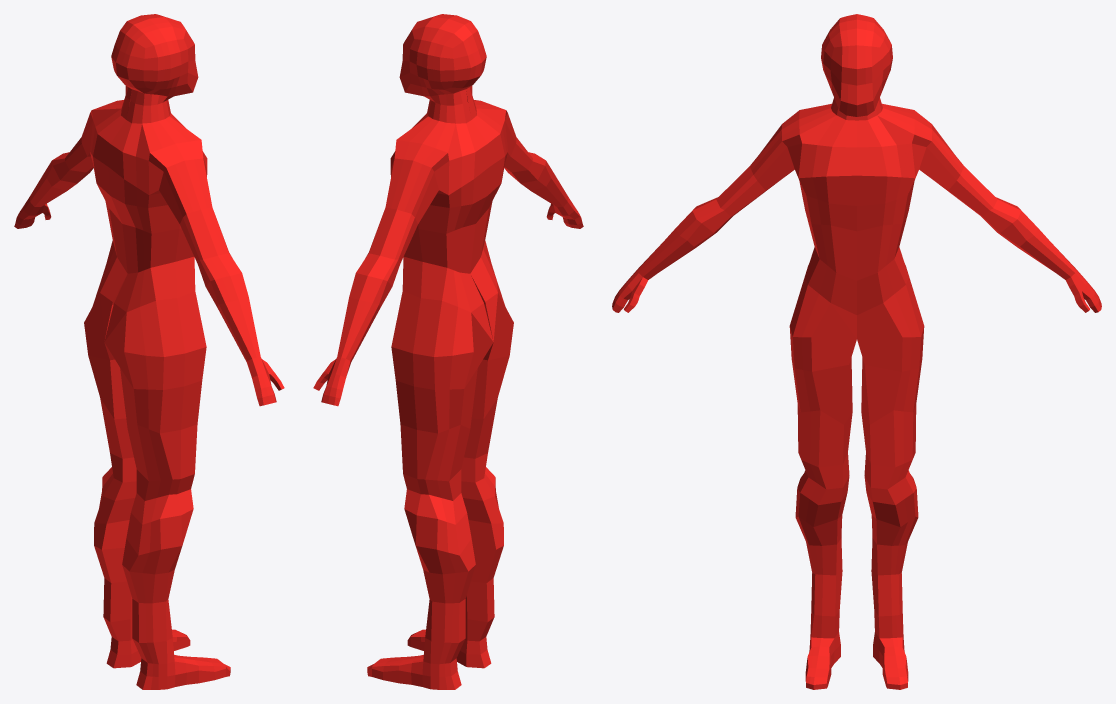
Rendered from karkater.fbx.
3 views of the same model, side by side, from view 1: azimuth 30°, elevation 25°; view 2: azimuth 150°, elevation 25°; view 3: azimuth 270°, elevation 25° (orthographic).
Visible parts, largest first — view 1: yedekdeneme; view 2: yedekdeneme; view 3: yedekdeneme.
Part boxes in pixels (left/top/right/bottom): yedekdeneme: left=14, top=14, right=284, bottom=689; yedekdeneme: left=313, top=14, right=583, bottom=689; yedekdeneme: left=612, top=14, right=1101, bottom=689.
Size of the model in its own units: 41.02 by 244 by 169.
